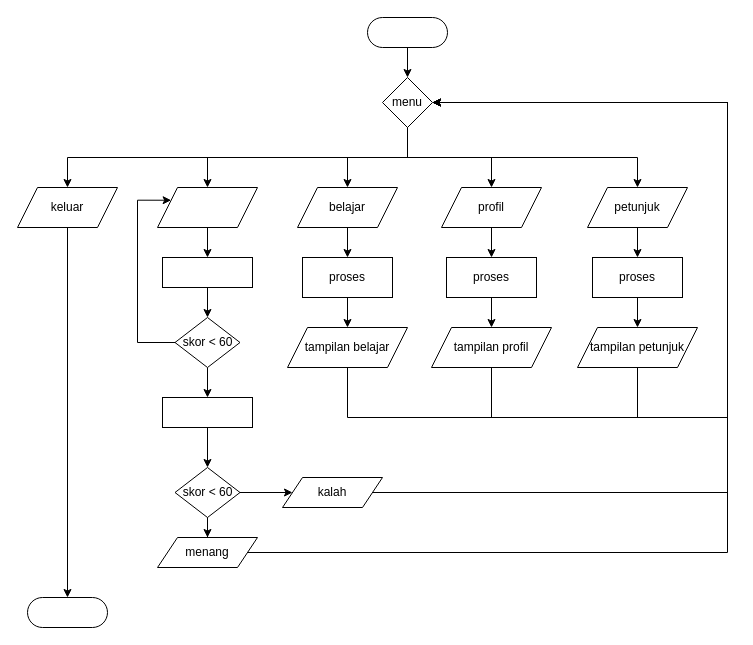
Image size: 753x645. Some labels were removed from this diagram. Here are the shapes that lost their labels. From the top down, the centre of each, then its label:
At point 407,32: "start".
At point 207,207: "mulai".
At point 207,272: "level 1".
At point 207,412: "level 2".
At point 67,612: "end".
